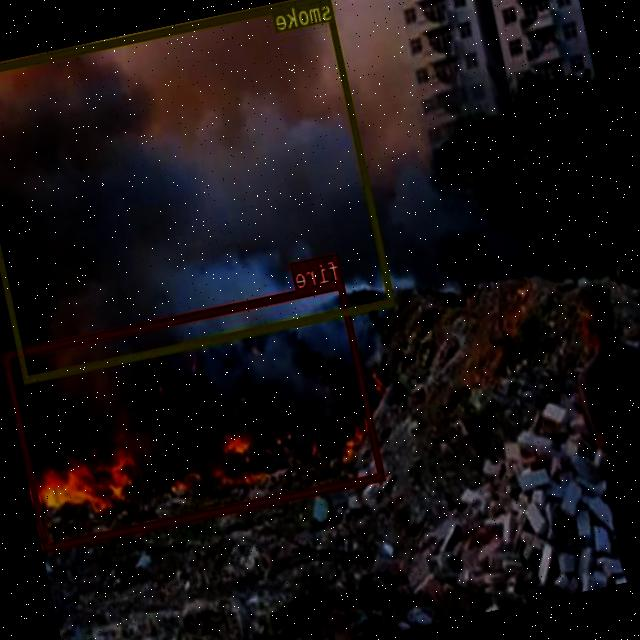fire: (2, 279, 386, 550)
smoke: (0, 0, 396, 381)
